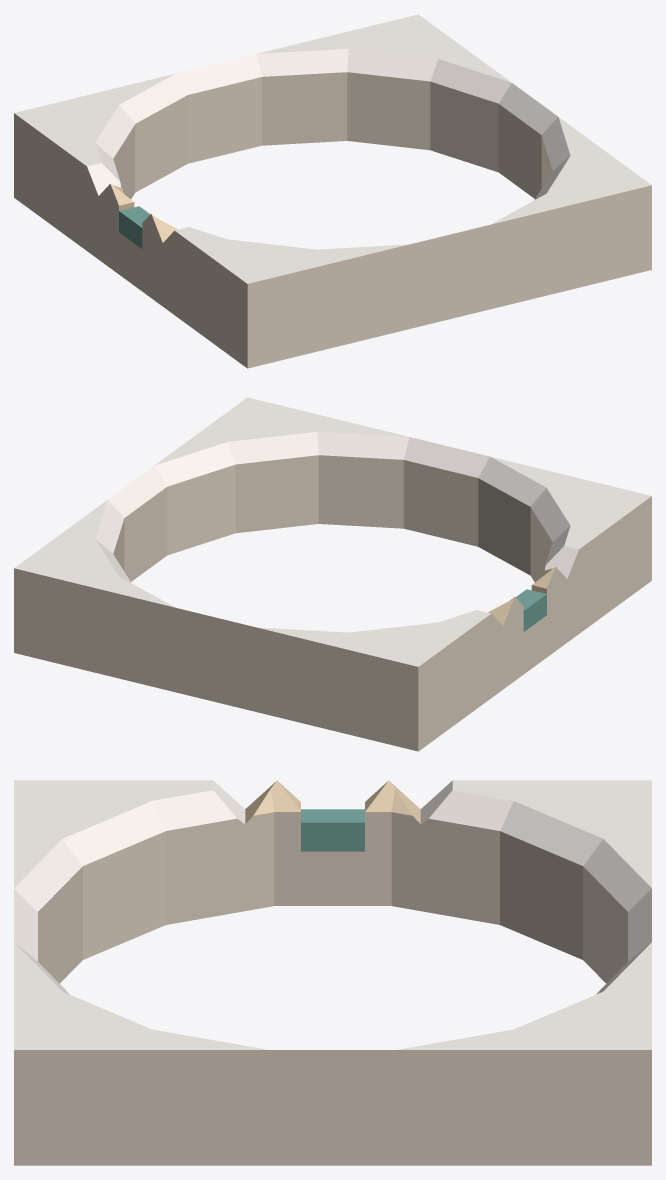
Rendered from Puzzle_Floor_Conduit_Rotating_Housing_End.glb.
The picture shows the model from 3 angles, top to bottom: view 1: azimuth 30°, elevation 25°; view 2: azimuth 150°, elevation 25°; view 3: azimuth 270°, elevation 25°; orthographic projection. The views are drawn at different scales.
Parts seen in each view (by area): view 1: Puzzle_Floor_Conduit_Rotating_Housing_End; view 2: Puzzle_Floor_Conduit_Rotating_Housing_End; view 3: Puzzle_Floor_Conduit_Rotating_Housing_End.
Boxes of the visible parts, x1,y1,x2,y2 form: Puzzle_Floor_Conduit_Rotating_Housing_End: (14, 14, 651, 368); Puzzle_Floor_Conduit_Rotating_Housing_End: (14, 397, 651, 751); Puzzle_Floor_Conduit_Rotating_Housing_End: (14, 780, 651, 1165).
Bounding box in the file's own units: 1 × 0.2 × 1.
